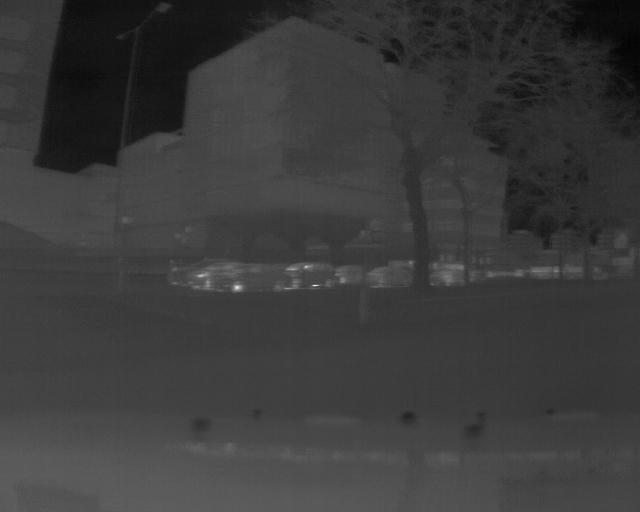car: (221, 263, 291, 296), (362, 265, 415, 291), (292, 261, 336, 288)
